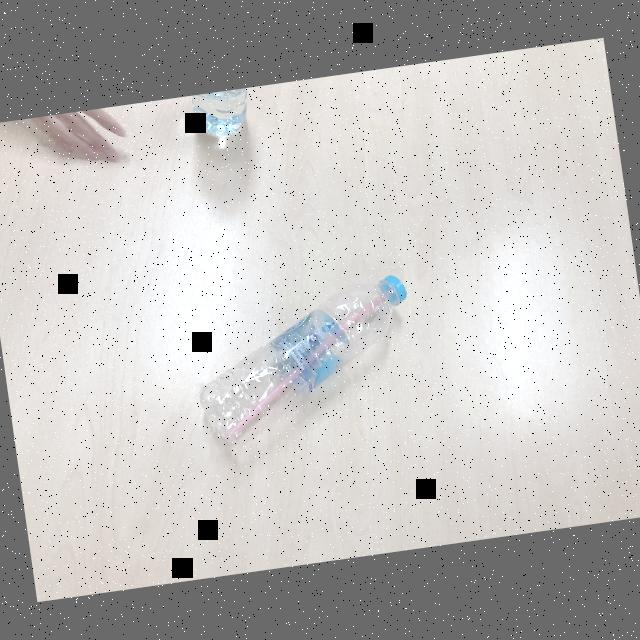plastic_bottle: (186, 273, 424, 444), (190, 89, 252, 145)
plastic_bottle_cap: (378, 274, 407, 307)
straw: (213, 296, 400, 439)
